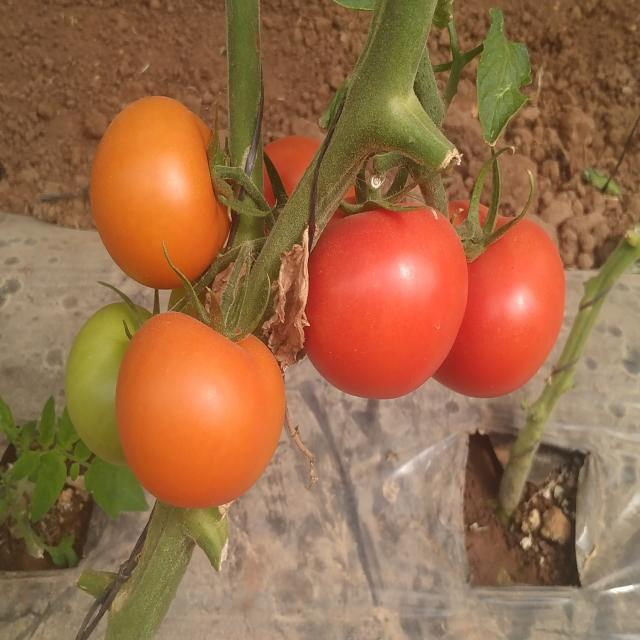Ripe Tomato: (114, 306, 288, 509), (308, 201, 468, 400), (89, 93, 232, 288), (468, 198, 568, 408), (264, 134, 316, 197)
Unripe Tomato: (68, 298, 124, 451)
